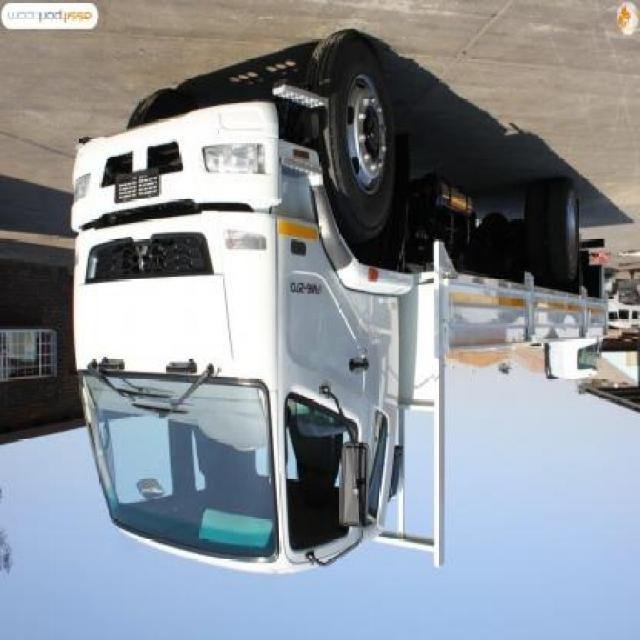truck: (69, 40, 610, 577)
